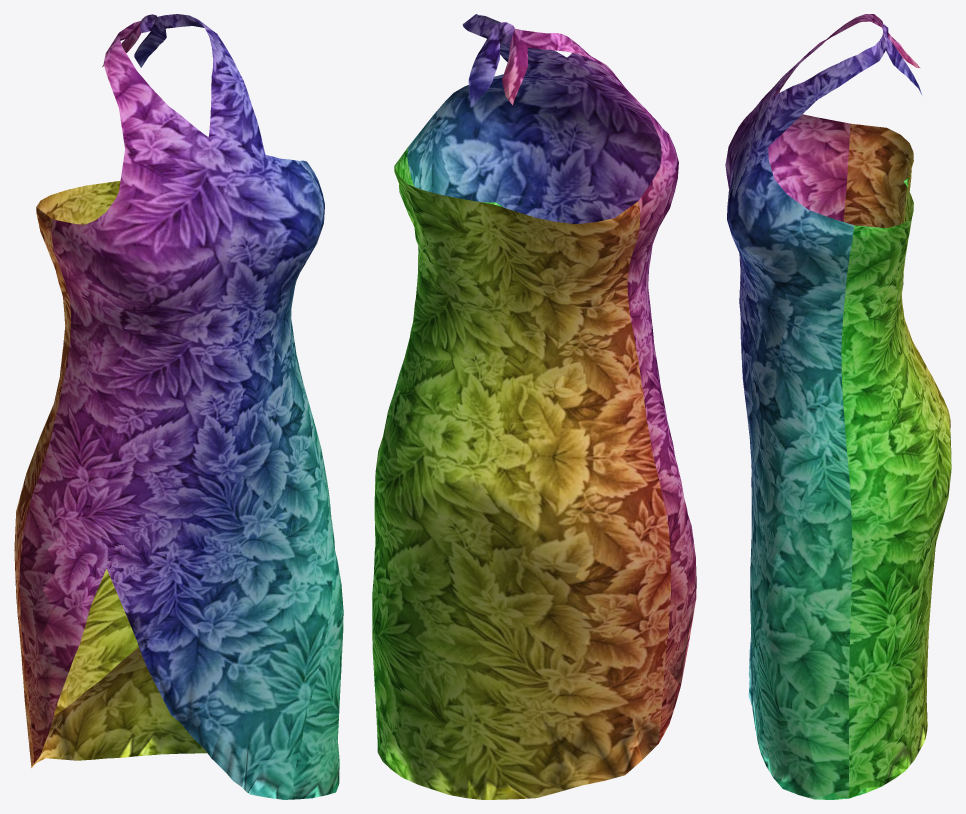
File: elvs-sarong-cover-up.glb
3 renders of one model, left to right at view 1: azimuth 30°, elevation 25°; view 2: azimuth 150°, elevation 25°; view 3: azimuth 270°, elevation 25°, orthographic. The views are drawn at different scales.
Visible parts, largest first — view 1: sarong cover up; view 2: sarong cover up; view 3: sarong cover up.
Part boxes in pixels (x1,y1,x2,y2): sarong cover up: (14,14,343,799); sarong cover up: (372,14,696,799); sarong cover up: (725,14,951,799).
Bounding box in the file's own units: 39.06 × 95.91 × 27.76.
Materials: 1 (1 with a texture image).
